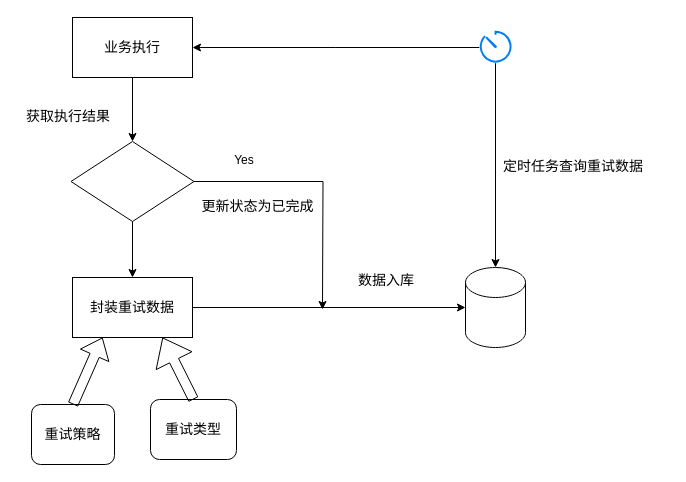
Image size: 686x482. Some labels were removed from this diagram. Here are the shapes that lost their labels. From the top down, the box of each, then its label:
(70, 140, 194, 222): 执行成功？
(464, 266, 526, 348): DB
